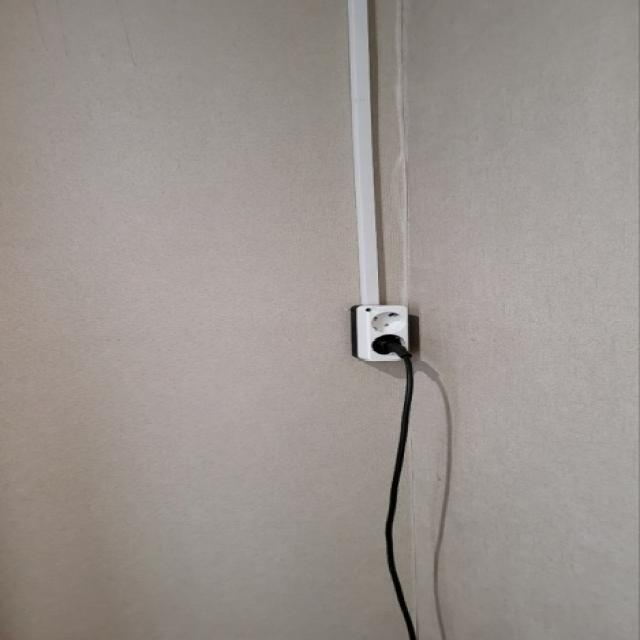typeb: (321, 289, 446, 384)
